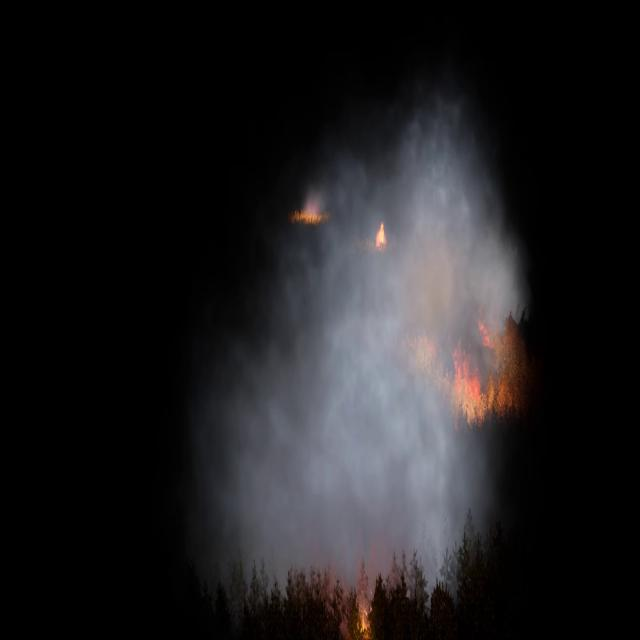fire: (448, 340, 509, 416), (479, 313, 499, 346), (375, 219, 390, 242)
smoke: (190, 80, 534, 590)
